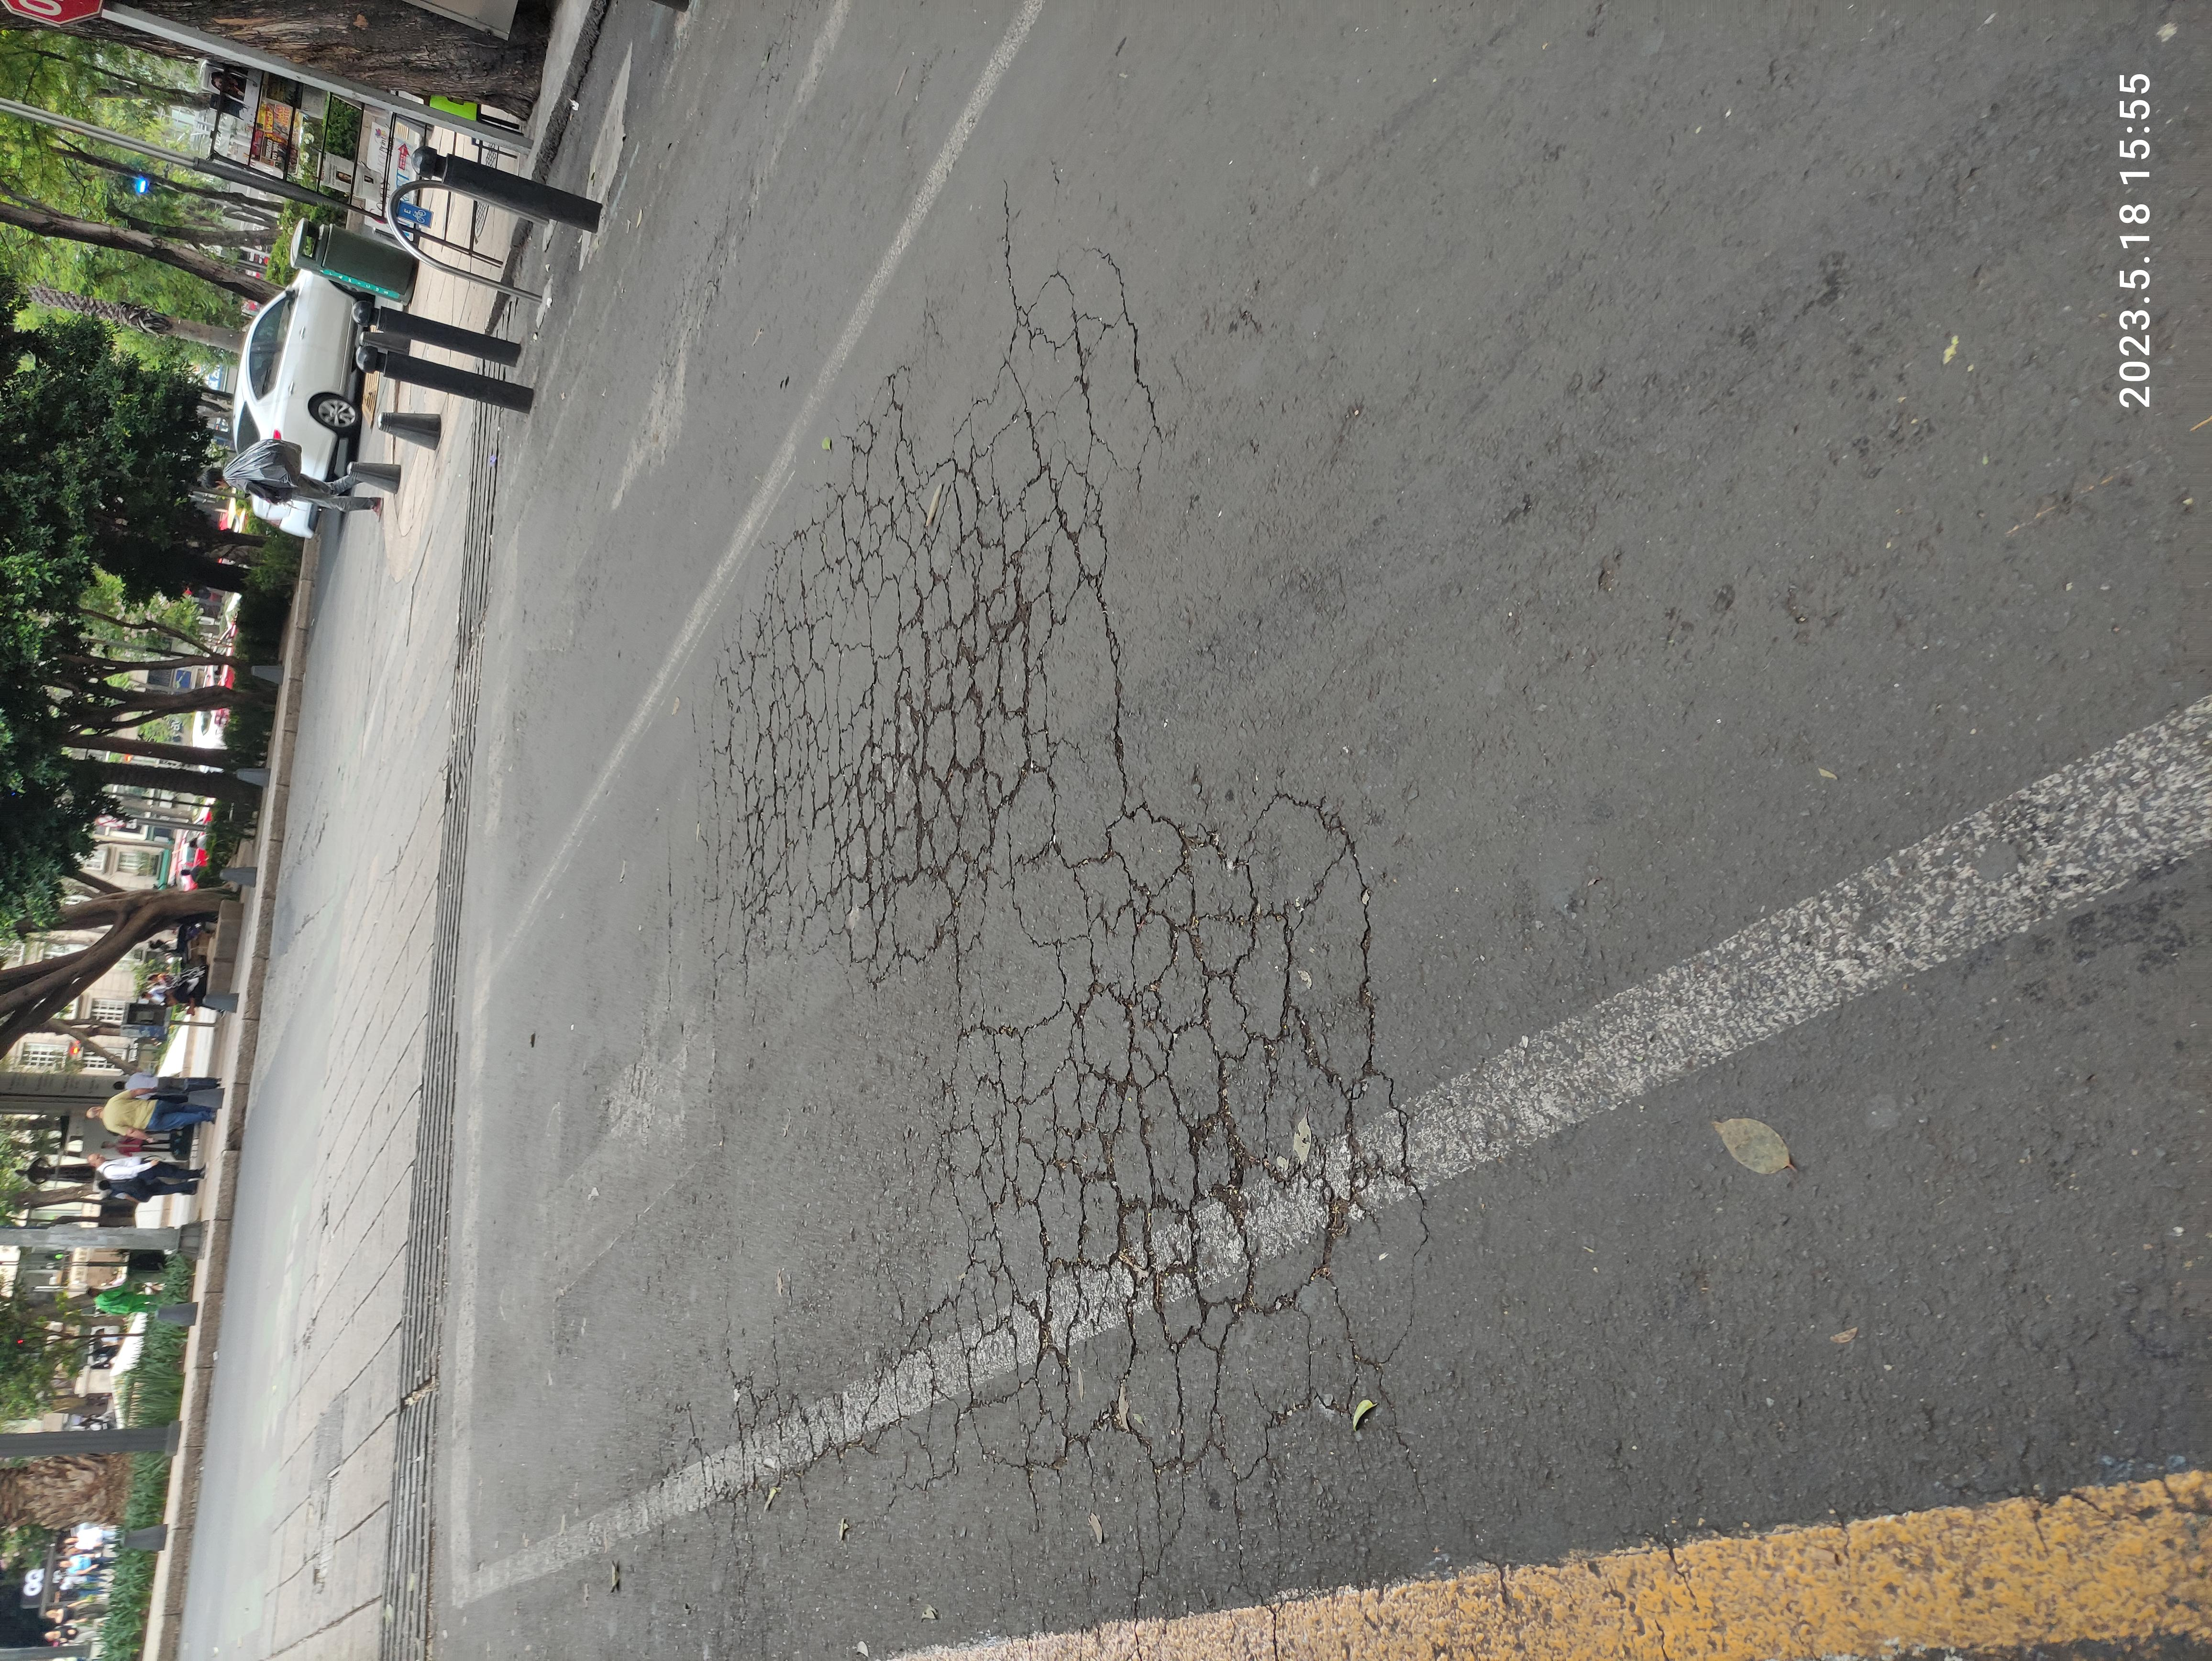alligator-crack: (147, 501, 1157, 1050), (891, 508, 1809, 858)
